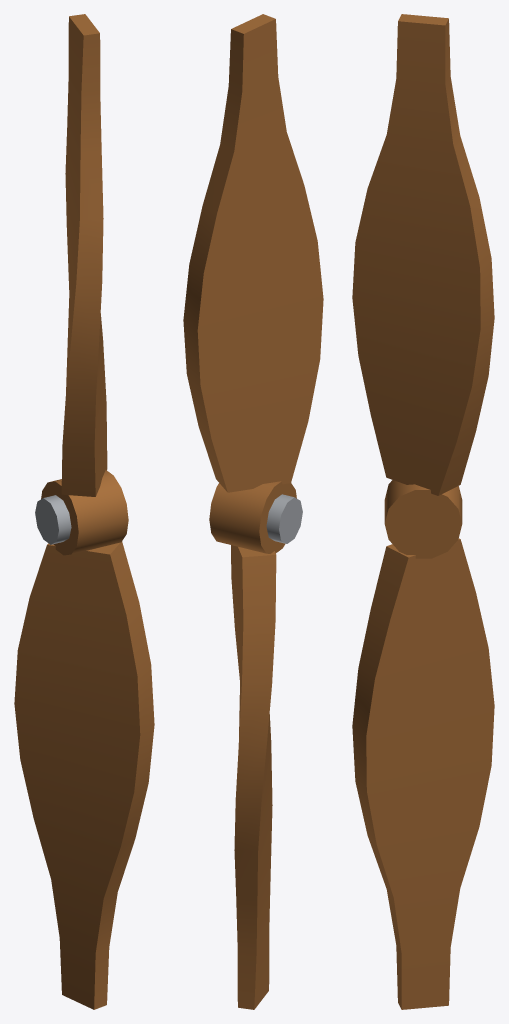
File: aeroplan-vint.glb
3 views of the same model, side by side, from view 1: azimuth 30°, elevation 25°; view 2: azimuth 150°, elevation 25°; view 3: azimuth 270°, elevation 25° (orthographic).
Visible parts, largest first — view 1: aeroplan_vint; view 2: aeroplan_vint; view 3: aeroplan_vint.
Part boxes in pixels (x1,y1,x2,y2): aeroplan_vint: [14, 14, 154, 1009]; aeroplan_vint: [183, 14, 323, 1009]; aeroplan_vint: [352, 14, 494, 1009].
Size of the model in its own units: 0.2051 by 2.24 by 0.2934.
